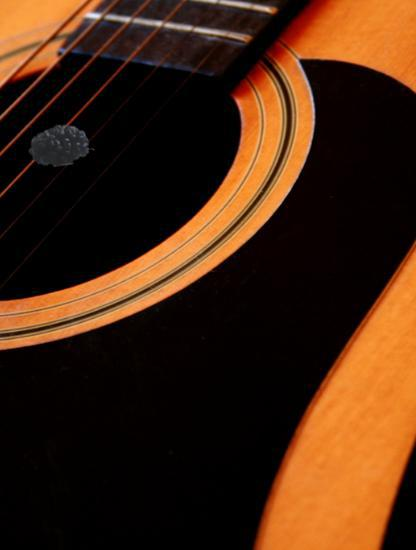Mulberry: (27, 110, 95, 178)
